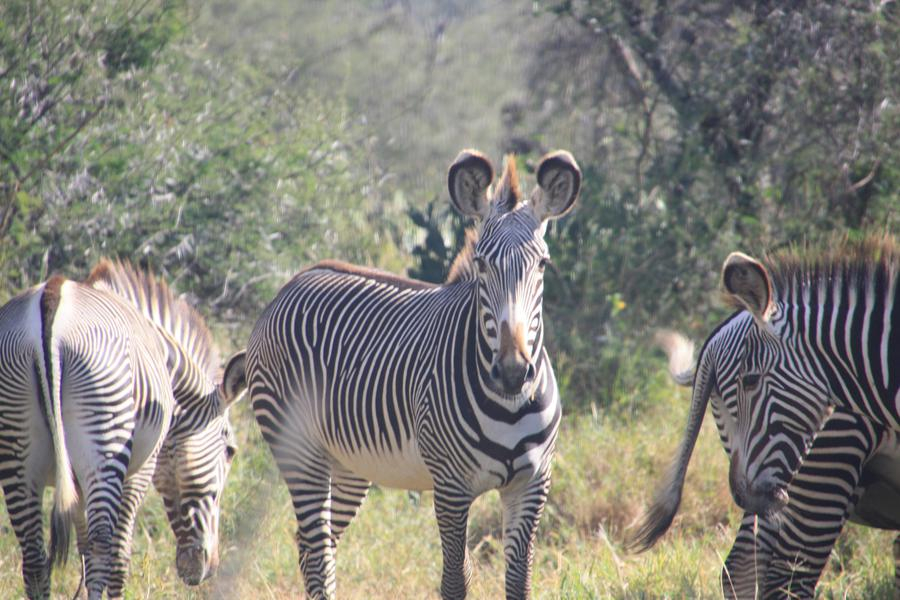zebra_grevys: (244, 251, 483, 476)
